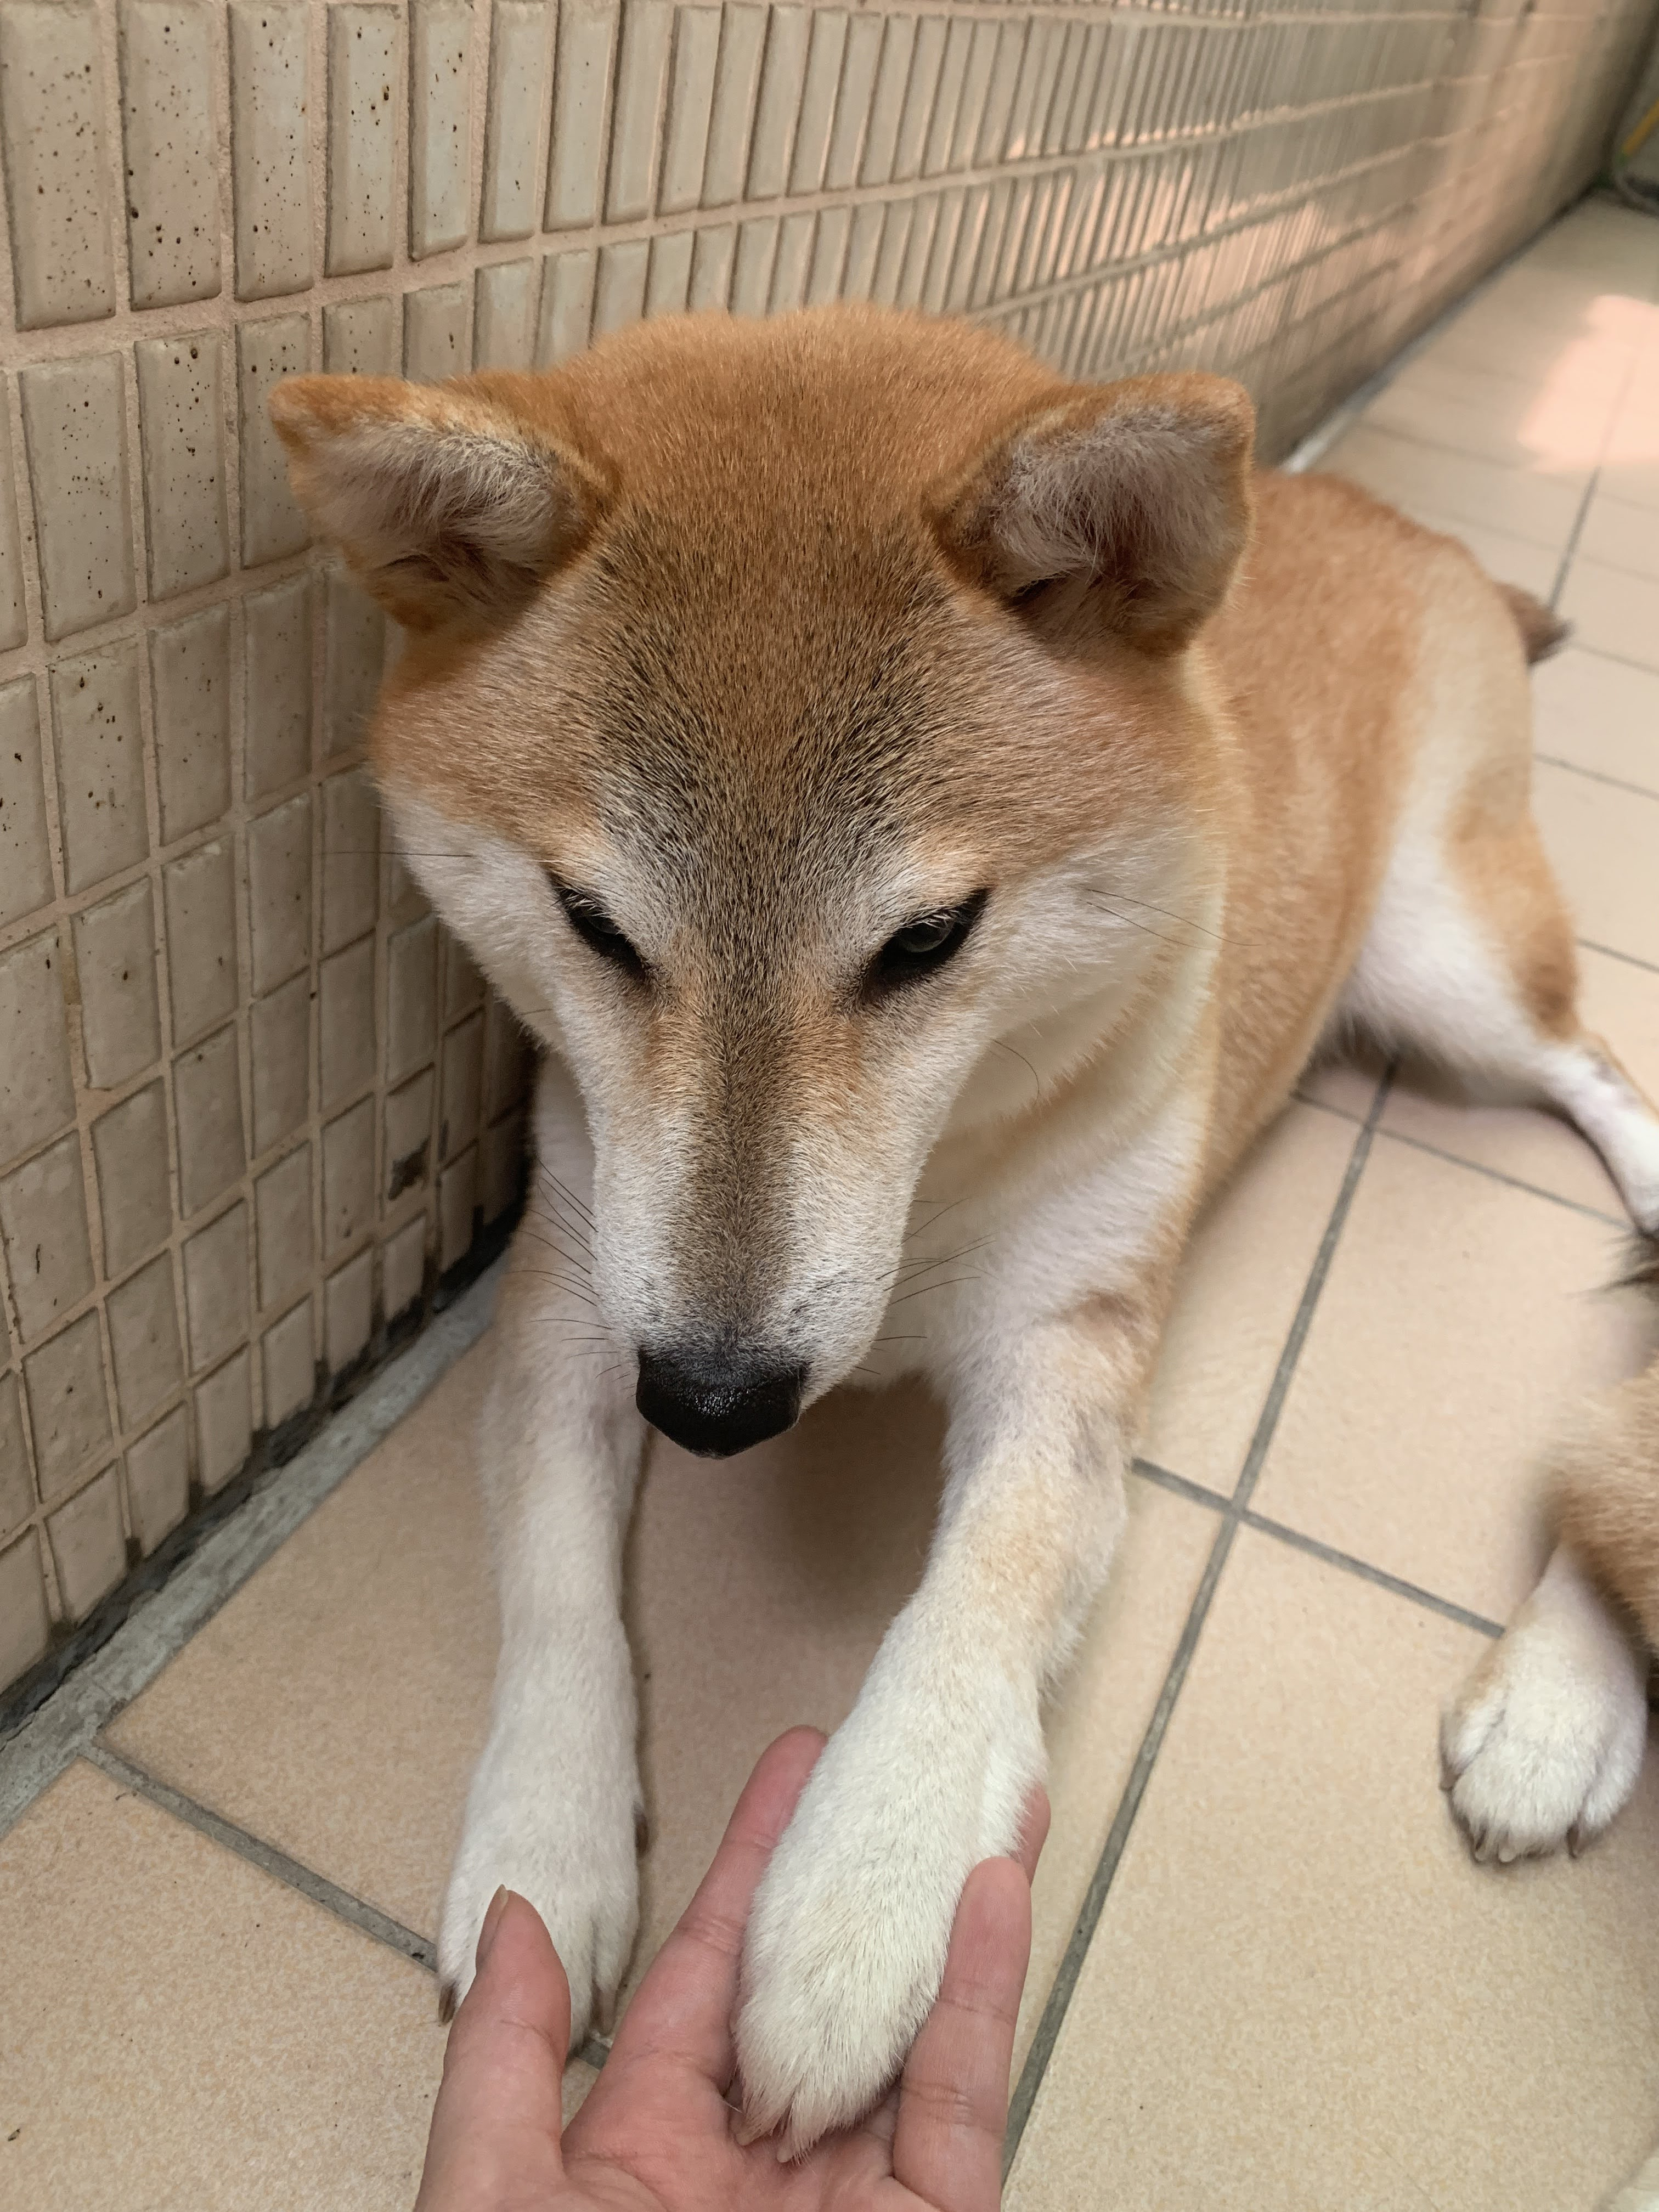Lie down: (253, 263, 1579, 2101)
